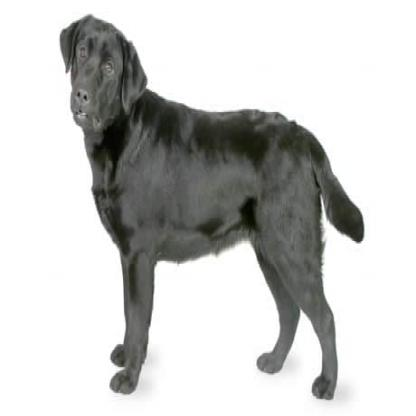Labarador Retriever: (44, 16, 365, 396)
